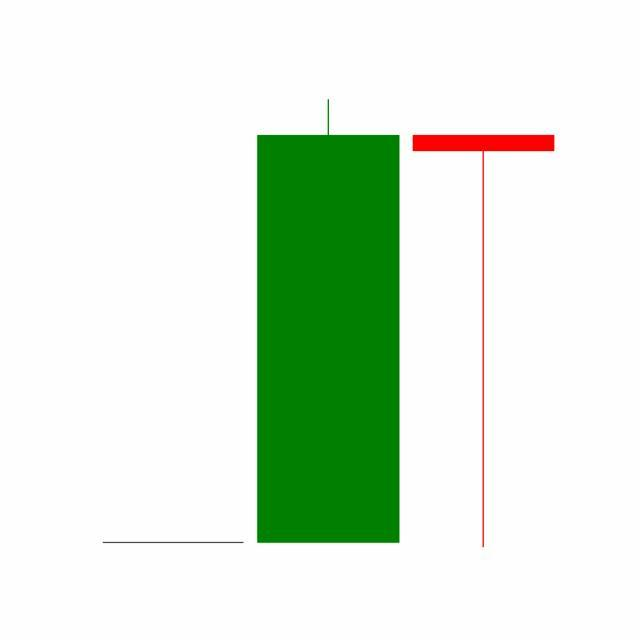Hammer: (406, 130, 562, 552)
